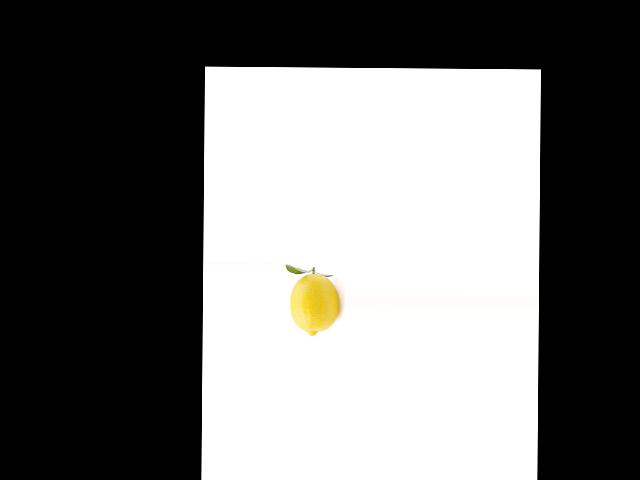lemon: (289, 271, 341, 339)
